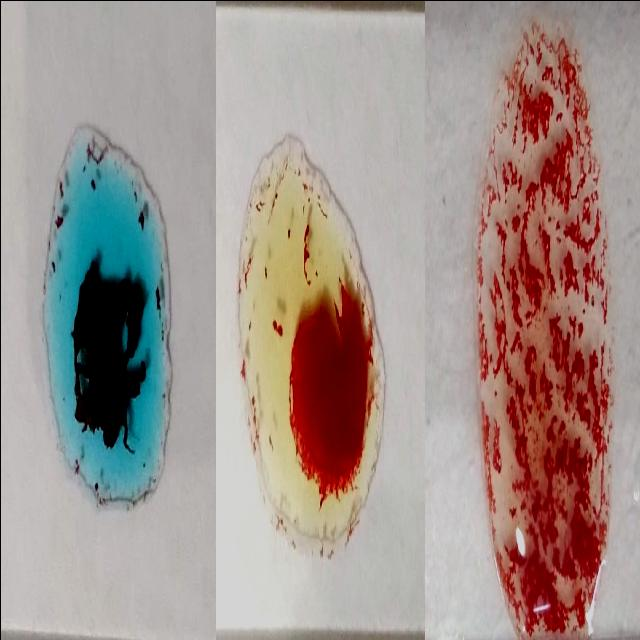A: (51, 125, 168, 512)
B: (240, 140, 379, 568)
D: (476, 28, 614, 634)
